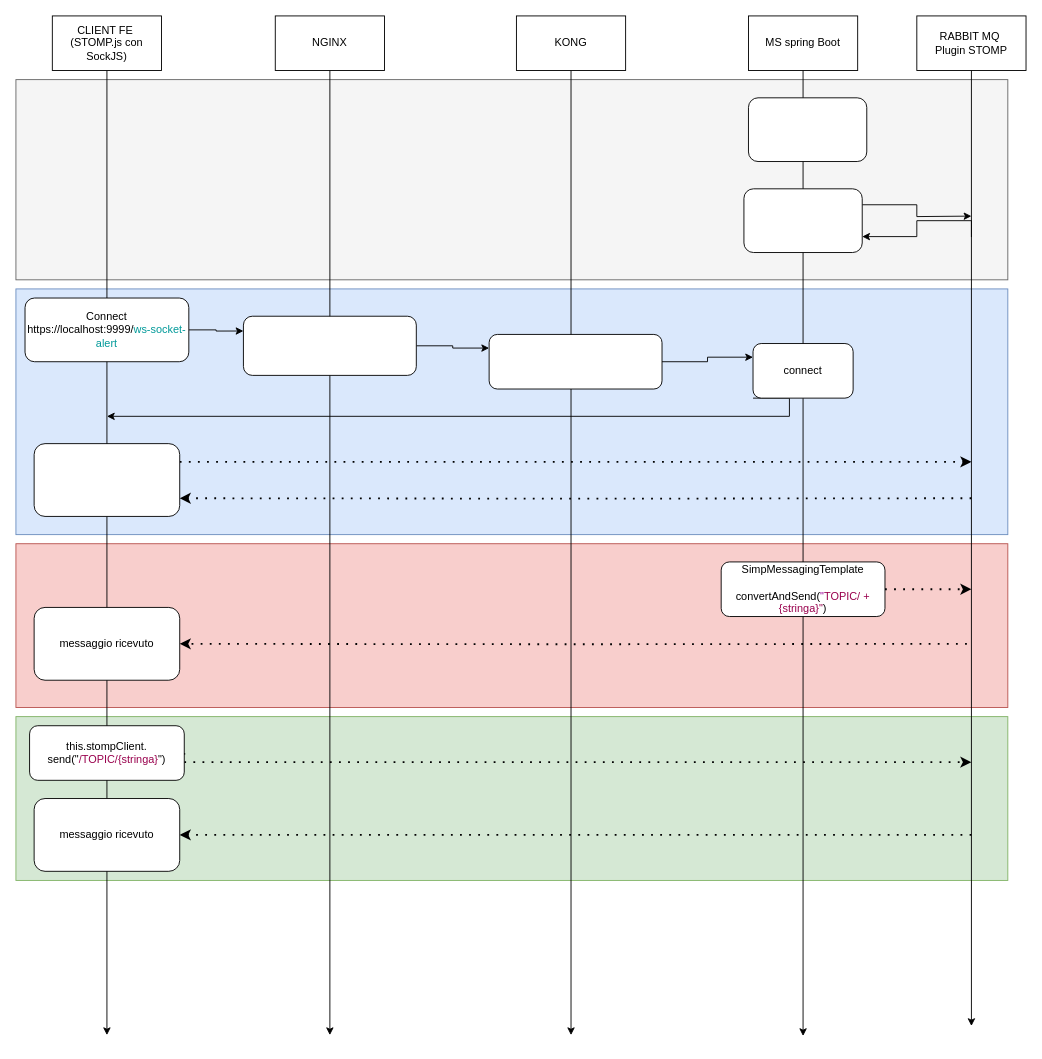
This 1042x1059 diagram has some shape labels left out. The centre of each missing label's shape, as x and y in pixels:
configura endpoint di connessione: ws-socket-alert: (807,129)
configura relay su / TOPIC e testa connessione: (802,220)
Redirect http://kong:8000/ ws-socket-alert: (329,345)
Redirect http://spring-boot-ms:8080/ ws-socket-alert: (575,361)
Subscribe /TOPIC/{stringa}: (106,479)
